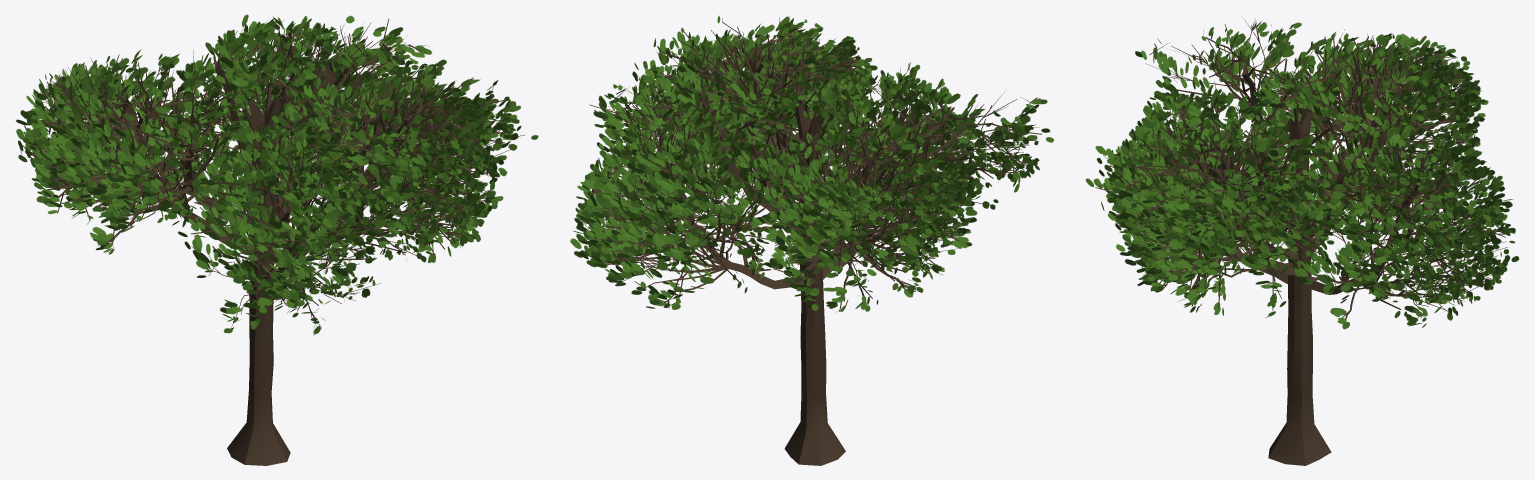
3 renders of one model, left to right at view 1: azimuth 30°, elevation 25°; view 2: azimuth 150°, elevation 25°; view 3: azimuth 270°, elevation 25°, orthographic. The views are drawn at different scales.
Parts seen in each view (by area): view 1: oak 01.001_trunk_Mat.001_0.123; view 2: oak 01.001_trunk_Mat.001_0.123; view 3: oak 01.001_trunk_Mat.001_0.123.
Part boxes in pixels (x1,y1,x2,y2): oak 01.001_trunk_Mat.001_0.123: (16, 14, 538, 465); oak 01.001_trunk_Mat.001_0.123: (570, 16, 1053, 465); oak 01.001_trunk_Mat.001_0.123: (1085, 19, 1519, 465).
Bounding box in the file's own units: 5.82 × 4.81 × 5.32.
Materials: 2 (1 with a texture image).
